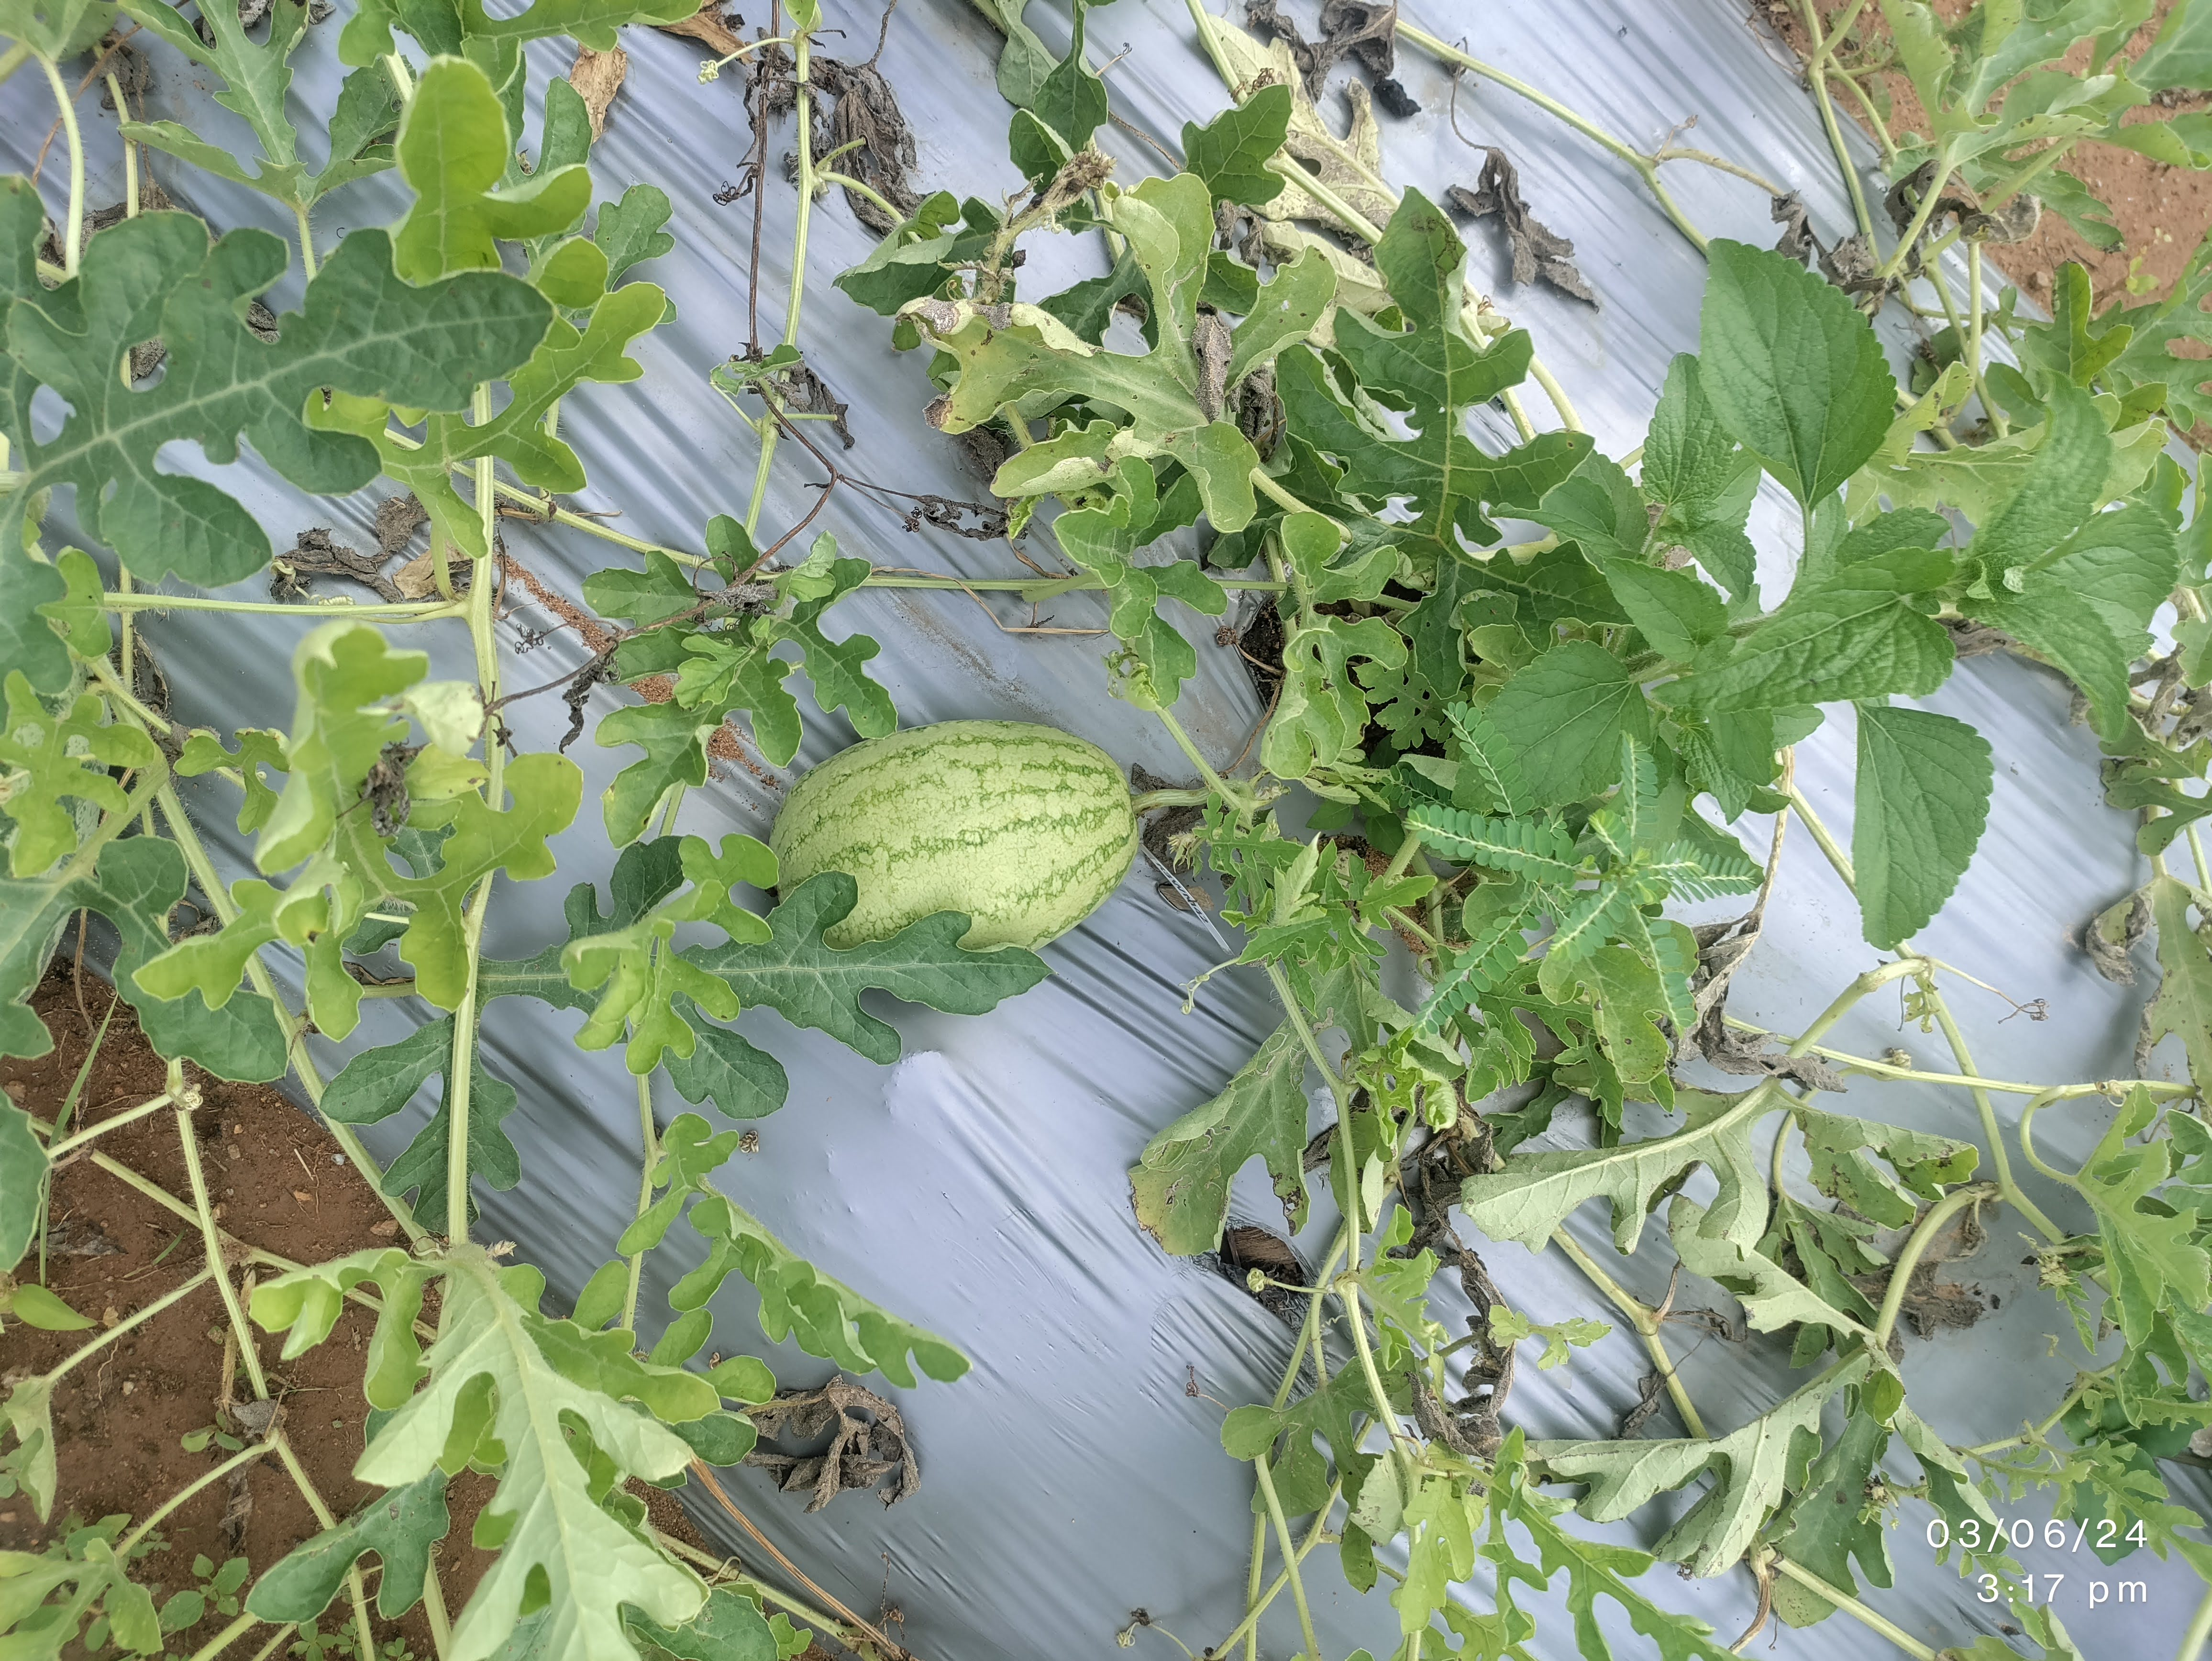good-to-harvest: (769, 701, 1162, 988)
